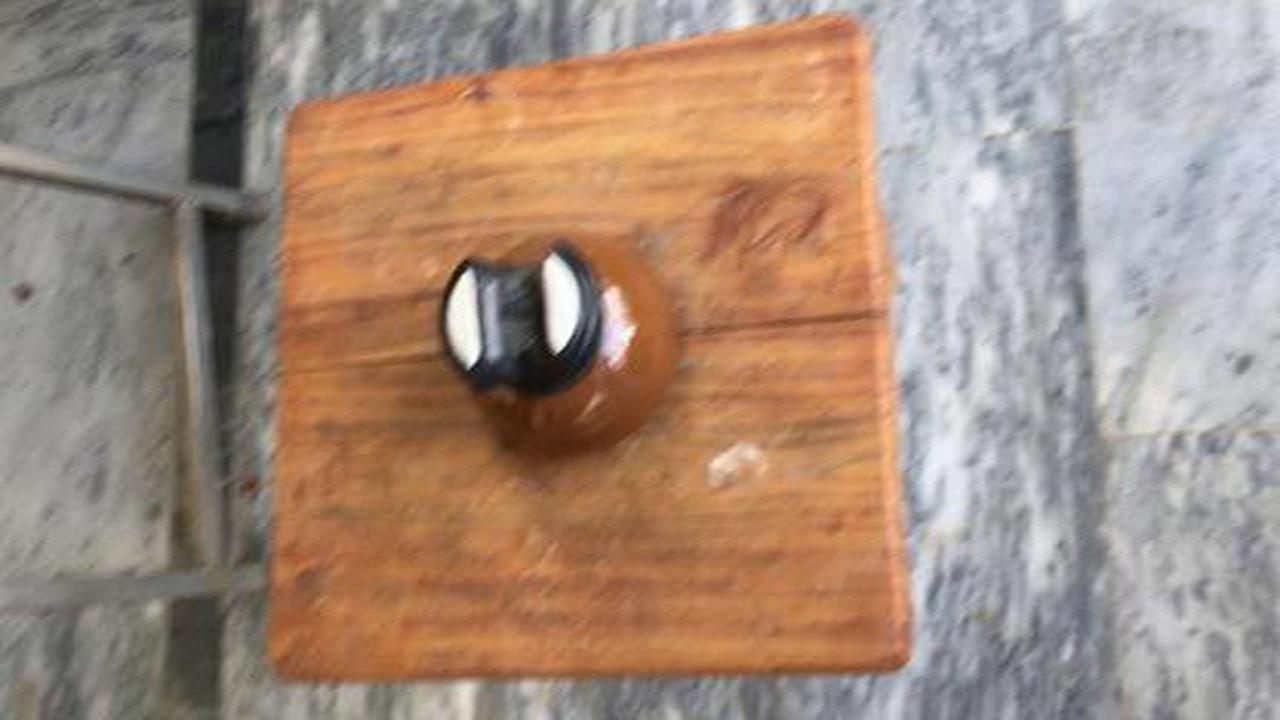insulator_pin: (422, 219, 696, 480)
